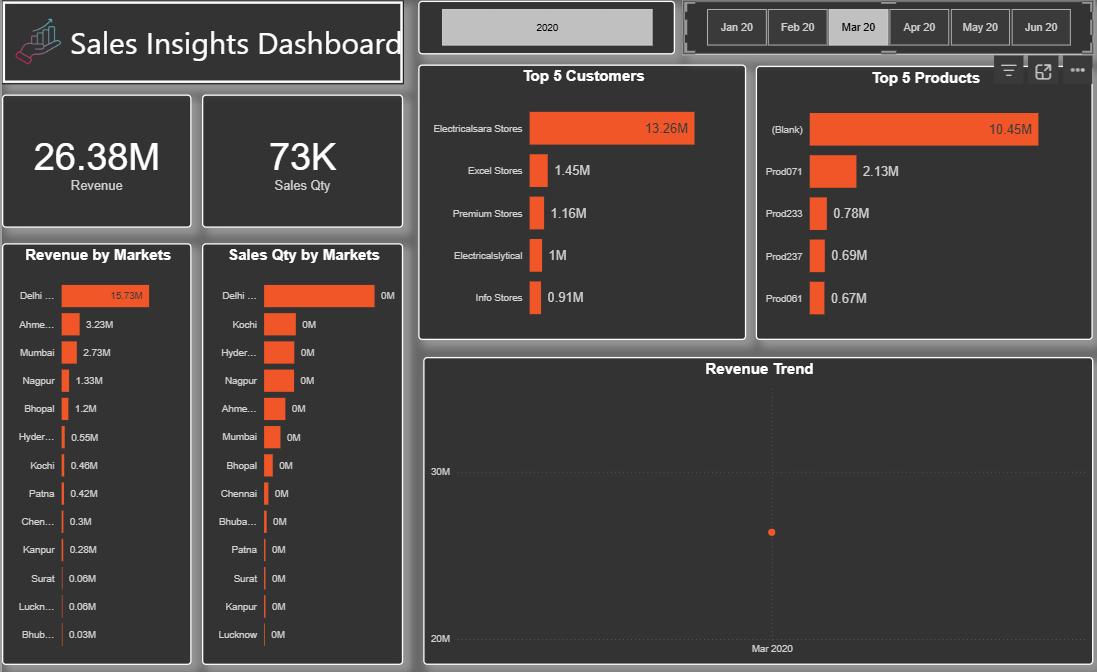

The dashboard page shown, as its layout file describes it:
{"tool":"powerbi","page":{"name":"Page 1","canvas":[1850,1000],"ordinal":0},"visuals":[{"type":"card","fields":{"Values":["BaseMeasures (2).Revenue"]},"box":[0,120.2,234.7,165.1],"z":0},{"type":"card","fields":{"Values":["BaseMeasures (2).Sales Qty"]},"box":[247.7,120.2,249.1,165.1],"z":1000},{"type":"barChart","title":"Revenue by Markets","fields":{"Y":["BaseMeasures (2).Revenue"],"Category":["sales markets.markets_name"]},"box":[0,304.2,234.7,521.5],"z":2000},{"type":"barChart","title":"Sales Qty by Markets","fields":{"Y":["BaseMeasures (2).Sales Qty"],"Category":["sales markets.markets_name"]},"box":[247.7,304.2,249.1,521.5],"z":3000},{"type":"slicer","fields":{"Values":["sales date.year"]},"box":[514.2,4.3,317.2,66.6],"z":4000},{"type":"slicer","fields":{"Values":["sales date.cy_date"]},"box":[843.1,4.3,507,66.6],"z":5000},{"type":"barChart","title":"Top 5 Customers","fields":{"Y":["BaseMeasures (2).Revenue"],"Category":["sales customers.custmer_name"]},"box":[514.2,84,405.6,340.4],"z":6000},{"type":"barChart","title":"Top 5 Products","fields":{"Y":["BaseMeasures (2).Revenue"],"Category":["sales products.product_code"]},"box":[932.9,85.5,417.2,339],"z":7000},{"type":"lineChart","title":"Revenue Trend","fields":{"Y":["BaseMeasures (2).Revenue"],"Category":["sales date.cy_date"]},"box":[521.5,444.7,828.6,381],"z":8000},{"type":"shape","box":[0,4.3,496.8,102.8],"z":8001},{"type":"image","box":[11.6,17.4,68.1,76.8],"z":8002}]}

Visuals, with their boxes on the page's 1850x1000 design canvas (x1, y1, x2, y2). These are canvas units, not pixel positions in the 1097x672 screenshot, which may show the page scaled, cropped or inside an application window:
card - BaseMeasures (2).Revenue: x1=0 y1=120 x2=235 y2=285
card - BaseMeasures (2).Sales Qty: x1=248 y1=120 x2=497 y2=285
"Revenue by Markets" barChart: x1=0 y1=304 x2=235 y2=826
"Sales Qty by Markets" barChart: x1=248 y1=304 x2=497 y2=826
slicer - sales date.year: x1=514 y1=4 x2=831 y2=71
slicer - sales date.cy_date: x1=843 y1=4 x2=1350 y2=71
"Top 5 Customers" barChart: x1=514 y1=84 x2=920 y2=424
"Top 5 Products" barChart: x1=933 y1=86 x2=1350 y2=424
"Revenue Trend" lineChart: x1=522 y1=445 x2=1350 y2=826
shape: x1=0 y1=4 x2=497 y2=107
image: x1=12 y1=17 x2=80 y2=94
